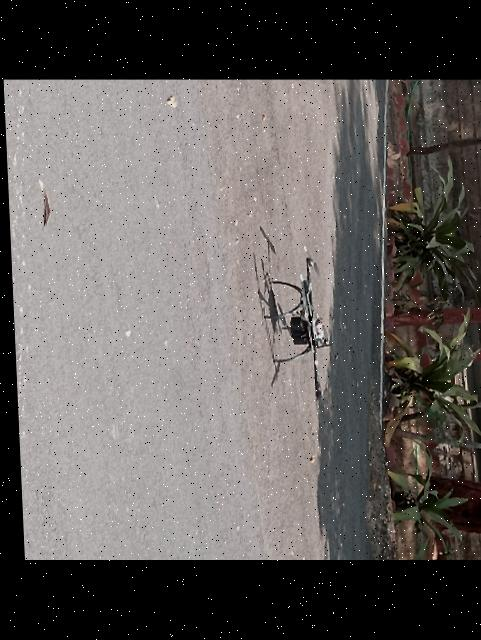drone: (248, 242, 342, 425)
